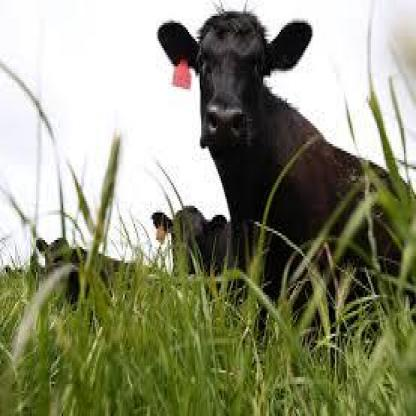cow: (156, 12, 416, 367), (35, 236, 171, 316), (150, 203, 234, 288)
